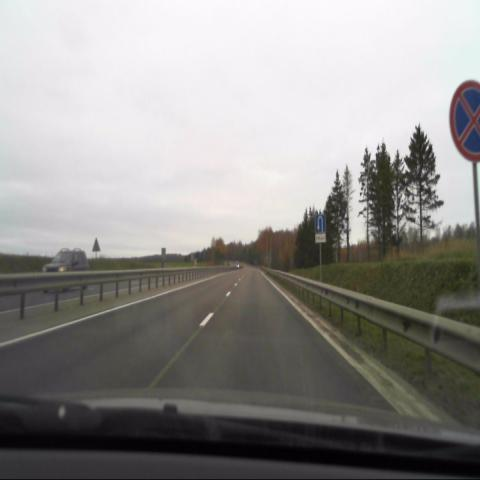6_3_1: (314, 213, 326, 234)
